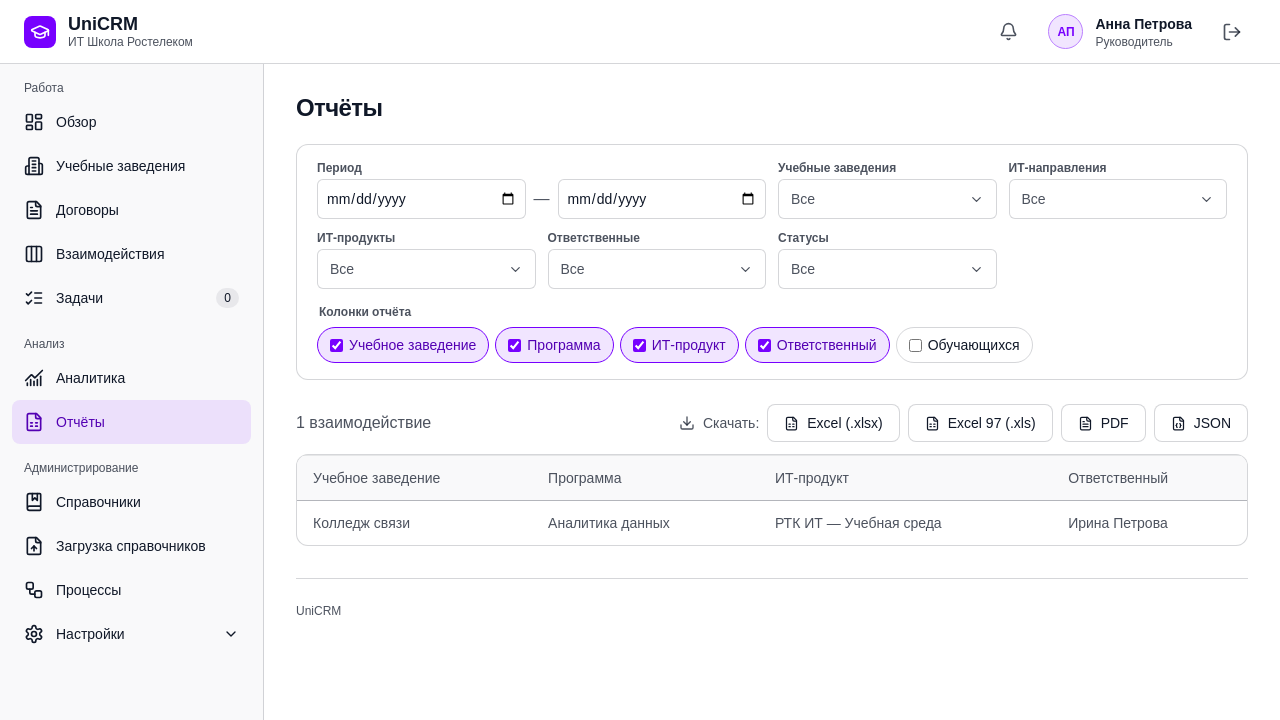
Test: reports page › blocks an inverted period and every download
The image size is (1280, 720).
Expected: the text "Аналитика данных" is shown, [532,500,759,545]
Type "2026-10-01" into the date field named "Период с" at (421, 199), box [317,179,526,219]
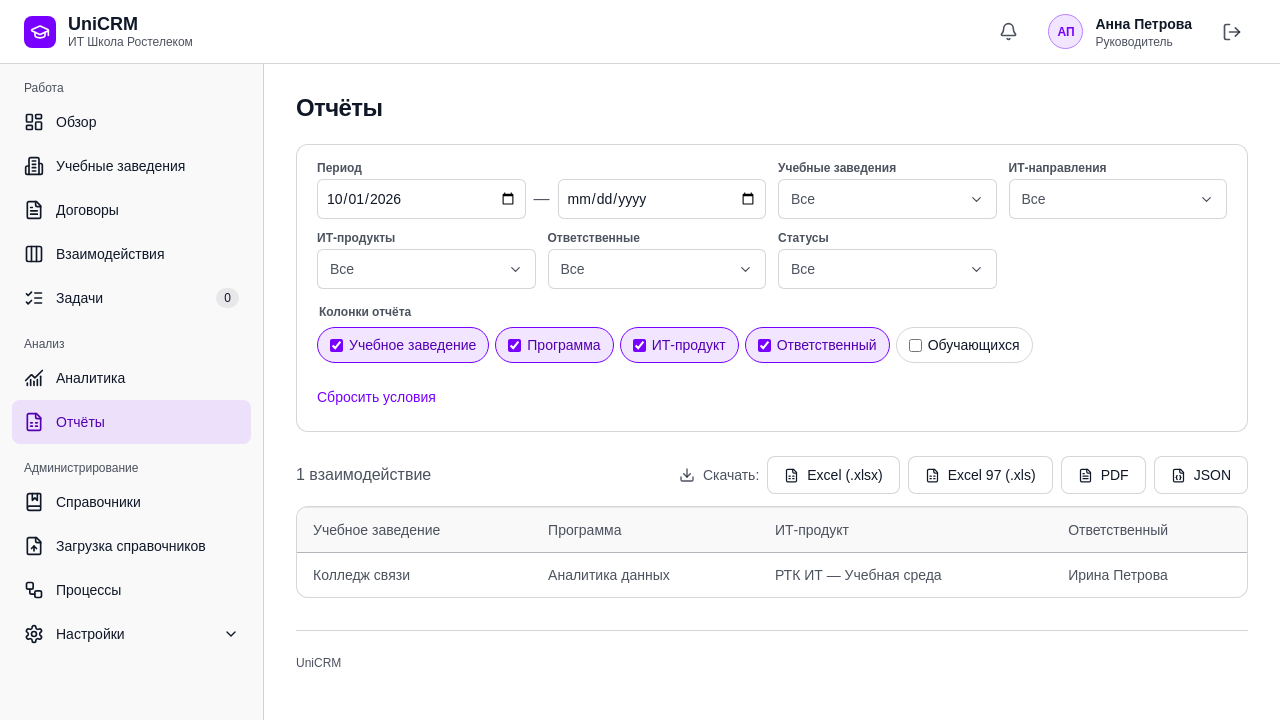
Type "2026-09-01" into the date field named "Период по" at (662, 199), box [558,179,766,219]
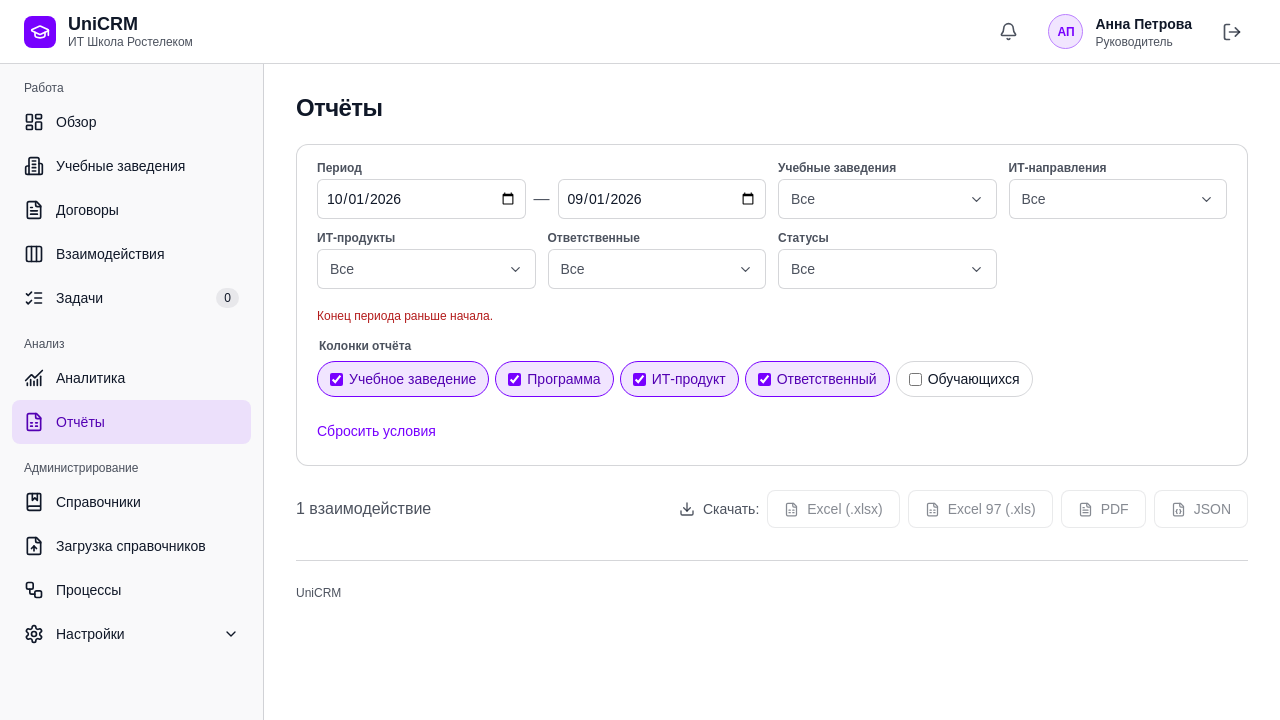
Expected: the button "PDF" is disabled, [1061,490,1146,528]
Now the text "Конец периода раньше начала." is shown, box [317,309,493,323]
